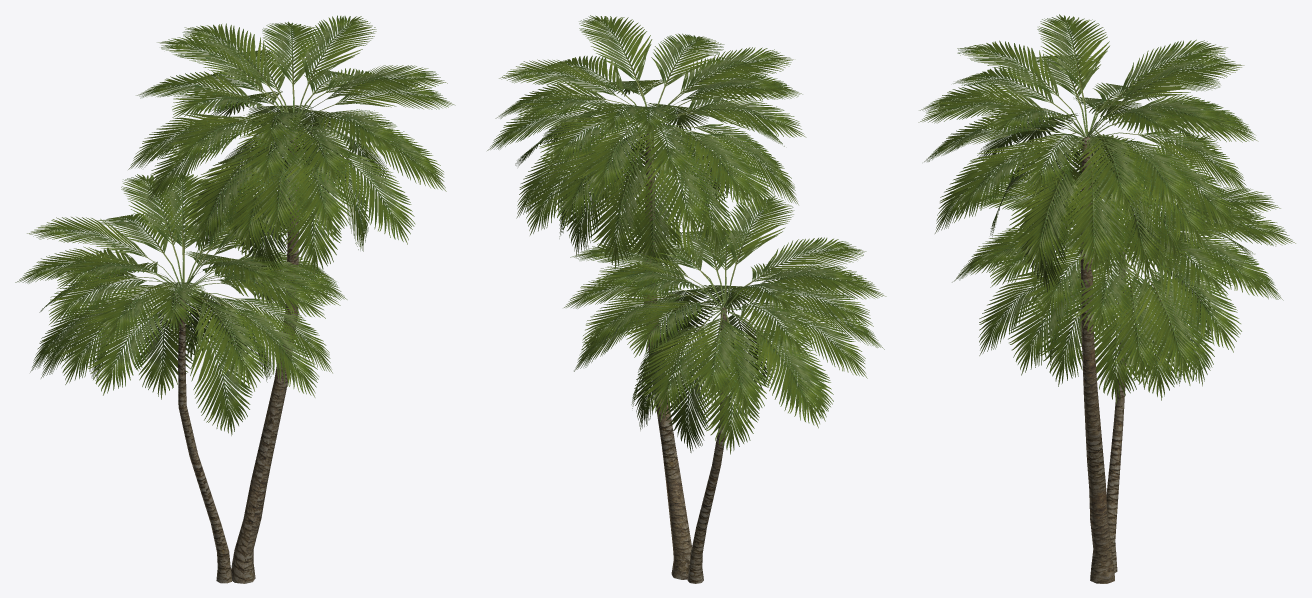
The model's file is tree2(Bugado).fbx.
The picture shows the model from 3 angles, left to right: view 1: azimuth 30°, elevation 25°; view 2: azimuth 150°, elevation 25°; view 3: azimuth 270°, elevation 25°; orthographic projection. The views are drawn at different scales.
Visible parts, largest first — view 1: Palm2; view 2: Palm2; view 3: Palm2.
Boxes of the visible parts, box(x1,y1,x2,y2) form: Palm2: box(15, 15, 455, 583); Palm2: box(487, 15, 886, 583); Palm2: box(918, 14, 1295, 583).
Bounding box in the file's own units: 587 × 745 × 494.
